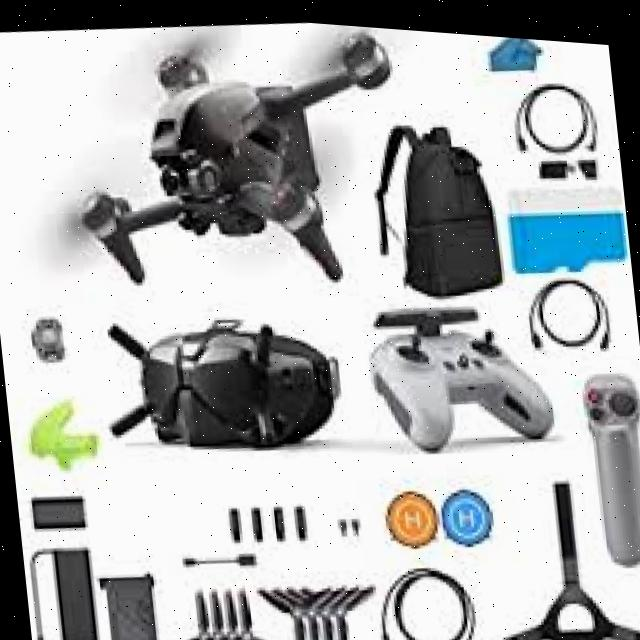drone: (51, 3, 434, 335)
